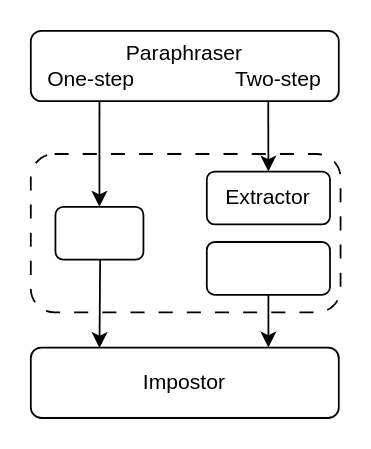
This 371x449 diagram has some shape labels left out. The centre of each missing label's shape, as x and y in pixels:
"Generator" goes at point 267,267.
"Rewrite" goes at point 98,232.
